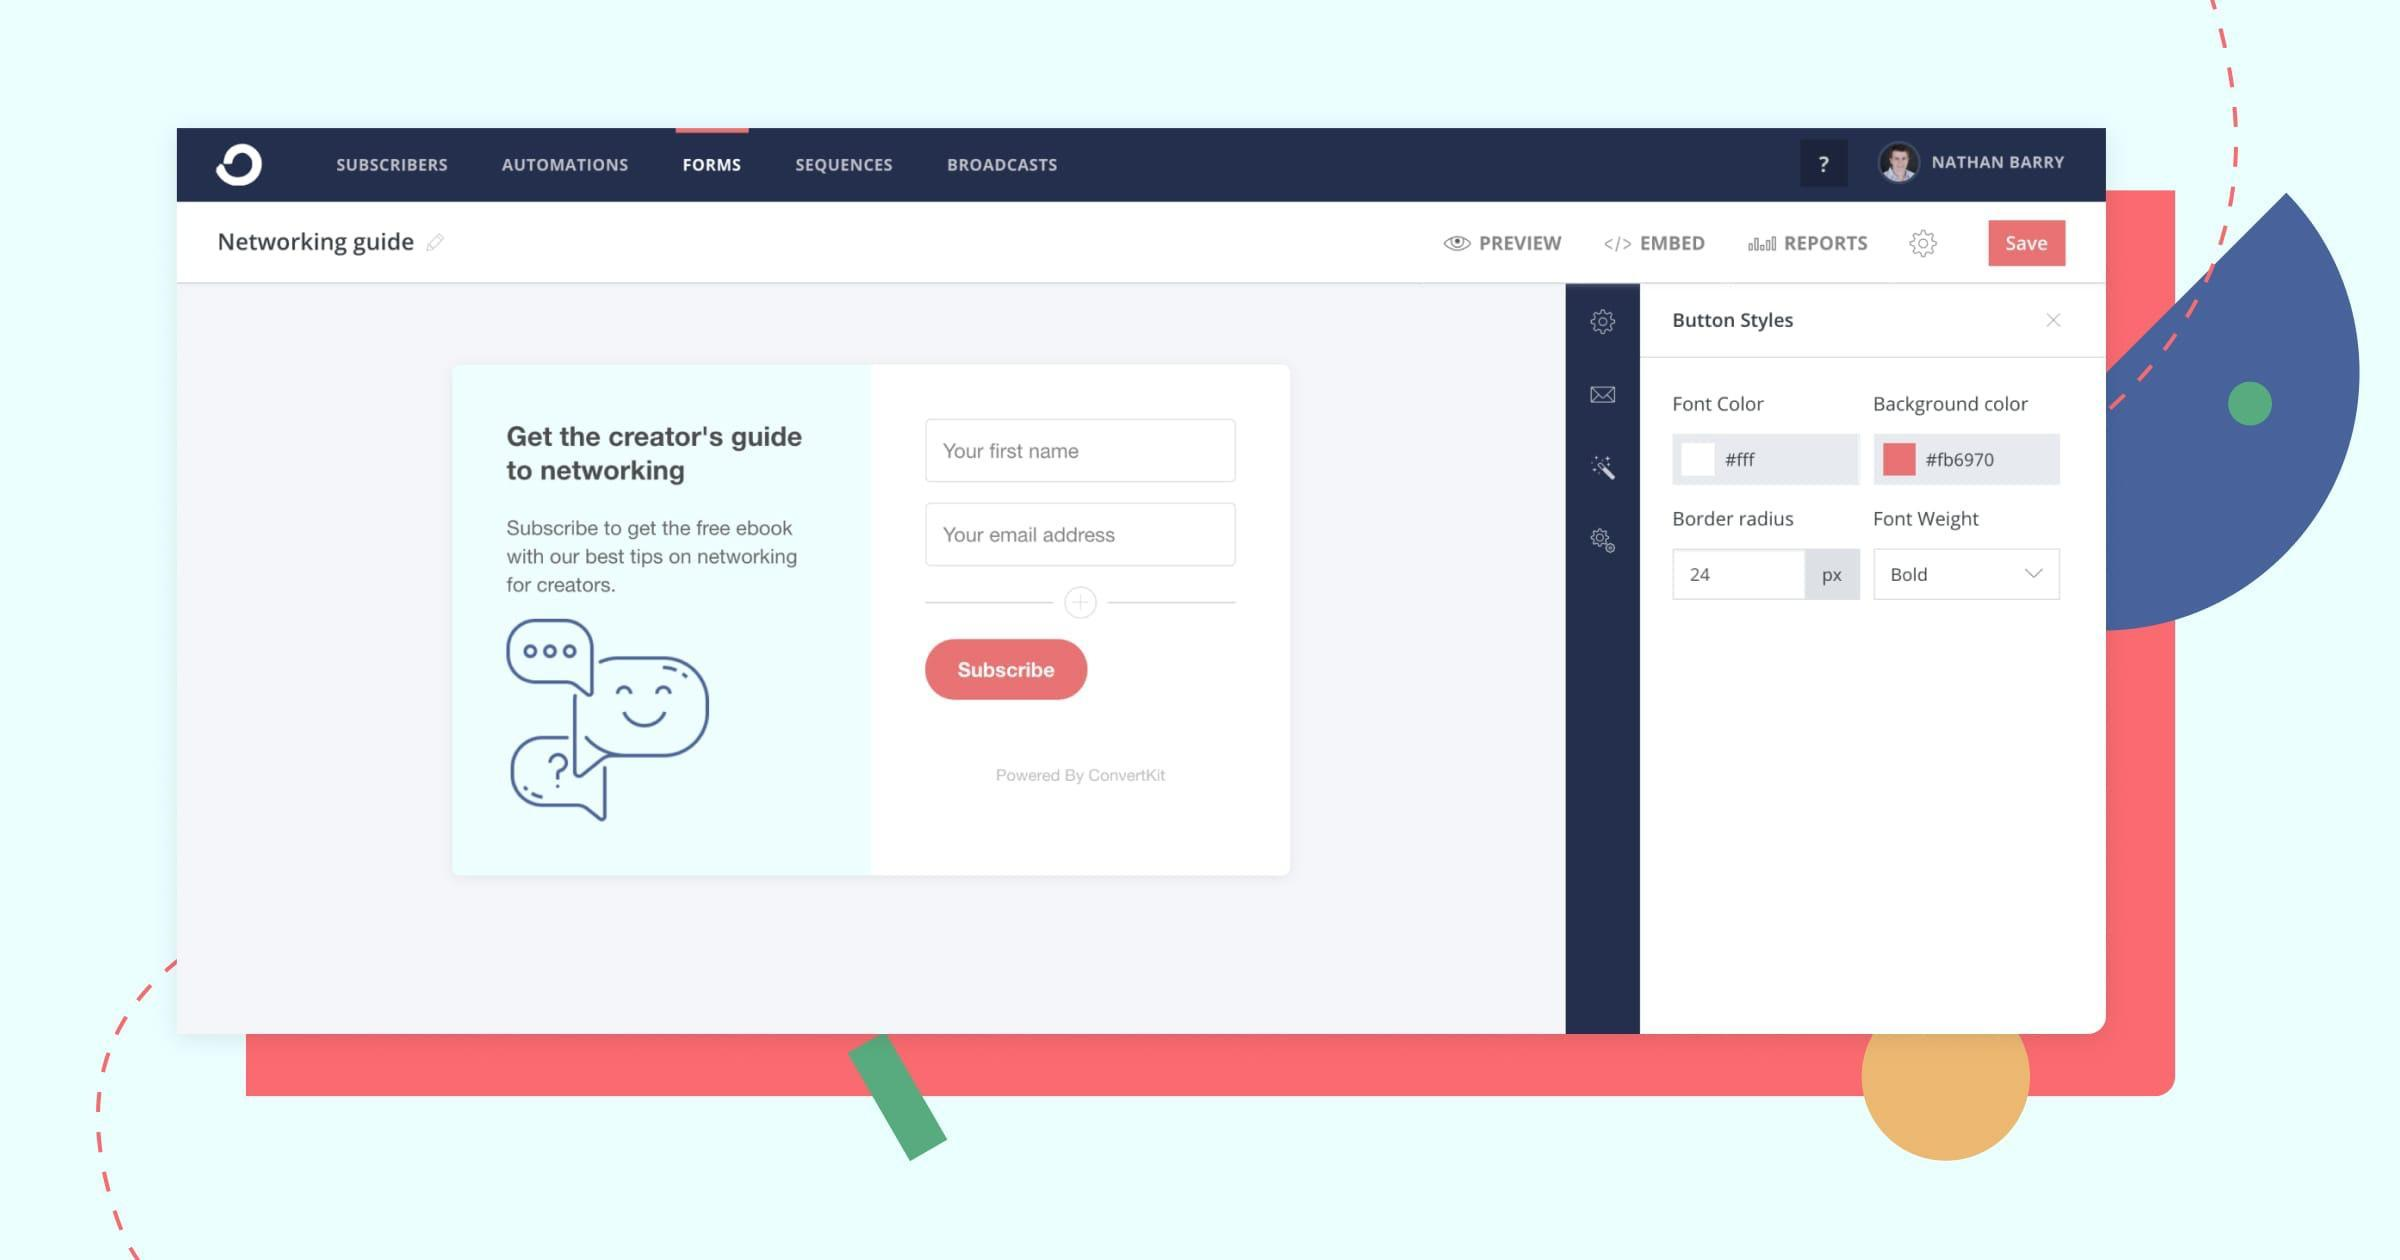button: (1868, 428, 2067, 489), (924, 638, 1090, 703), (1675, 433, 1860, 489), (1987, 222, 2067, 270)
dropdown: (1875, 546, 2059, 605)
icon: (1568, 500, 1640, 578), (1567, 428, 1641, 500), (1568, 284, 1643, 354), (1568, 359, 1640, 430), (213, 140, 271, 195), (1800, 144, 1851, 190), (1906, 225, 1944, 263), (1744, 233, 1787, 260), (1605, 236, 1638, 263), (1443, 232, 1475, 259), (2041, 305, 2067, 336)
input: (925, 503, 1243, 570), (924, 419, 1238, 486), (1678, 547, 1810, 598)
label: (213, 225, 429, 259), (1659, 305, 1808, 344), (1865, 390, 2044, 422), (944, 151, 1087, 187), (1932, 148, 2079, 178), (505, 151, 651, 179), (1867, 501, 1983, 536), (337, 152, 457, 182), (1671, 506, 1800, 533), (1668, 389, 1778, 417), (675, 146, 751, 182), (1476, 230, 1568, 260), (794, 152, 908, 175), (1784, 232, 1870, 259), (1640, 233, 1710, 259)
